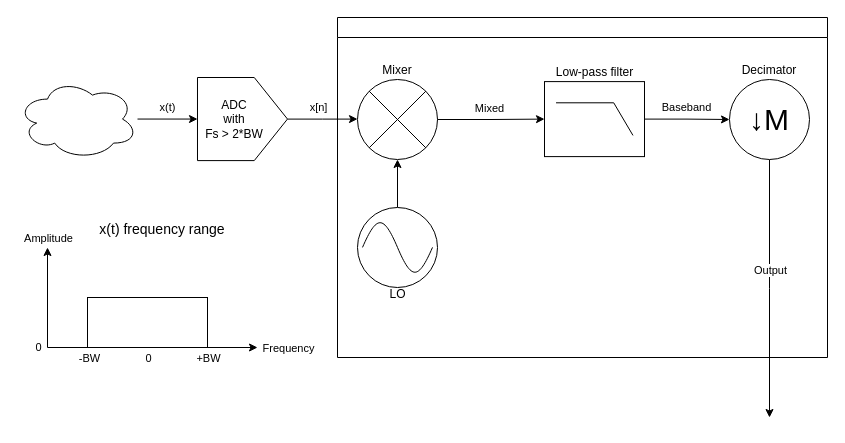
Image size: 845x443. Some labels were removed from this diagram. Here are the shapes that lost their labels. From the top down, the centre of each, then its label:
(x=77, y=118): Observation Target
(x=582, y=187): DIGITAL DOWNCONVERTER
